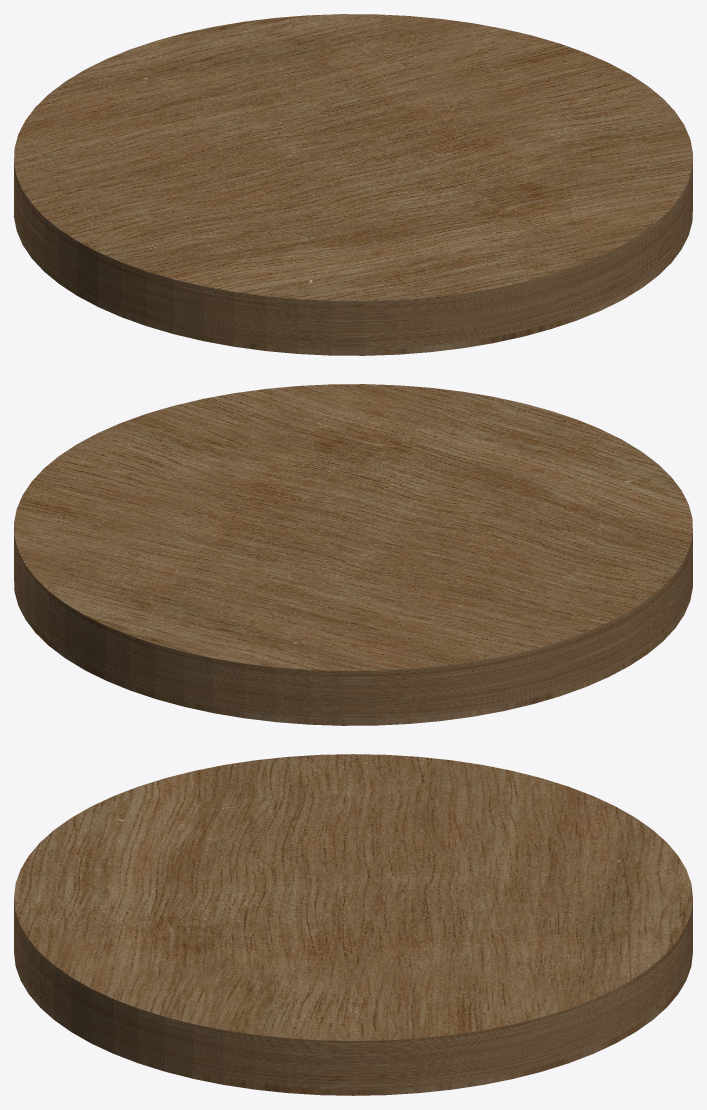
Rendered from weirdlight.fbx.
3 views of the same model, one above another, from view 1: azimuth 30°, elevation 25°; view 2: azimuth 150°, elevation 25°; view 3: azimuth 270°, elevation 25° (orthographic).
Visible parts, largest first — view 1: Cylinder; view 2: Cylinder; view 3: Cylinder.
Boxes of the visible parts, x1=… form: Cylinder: x1=14, y1=14, x2=692, y2=355; Cylinder: x1=14, y1=384, x2=692, y2=725; Cylinder: x1=14, y1=754, x2=692, y2=1095.
Bounding box in the file's own units: 771 × 68.56 × 771.
